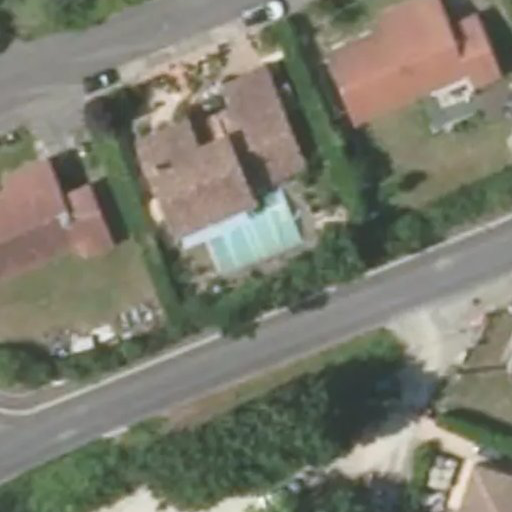pool: (208, 235, 303, 249)
